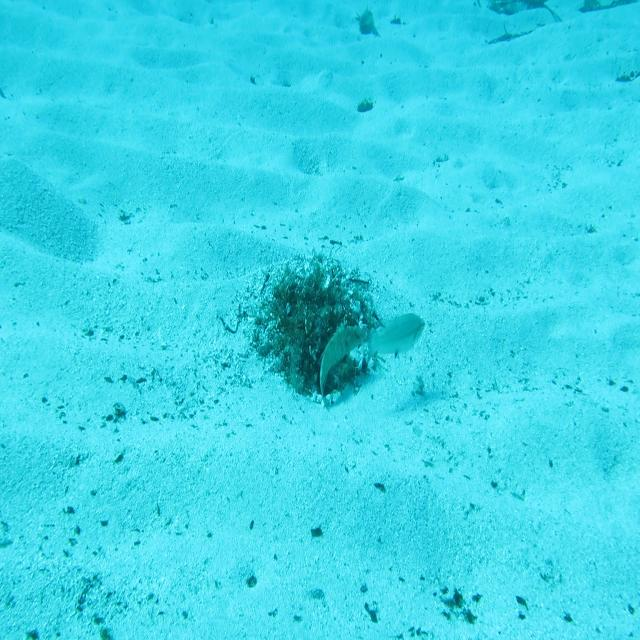BEND: (316, 316, 370, 413)
female: (360, 309, 427, 375)
nest: (247, 240, 390, 403)
